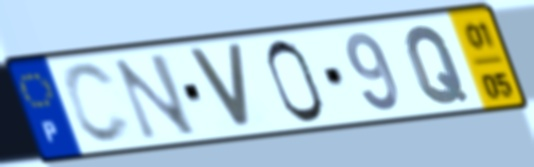0: (263, 36, 328, 125)
9: (342, 30, 402, 113)
C: (59, 59, 135, 147)
N: (109, 50, 201, 144)
Q: (403, 23, 472, 108)
V: (182, 42, 255, 132)
